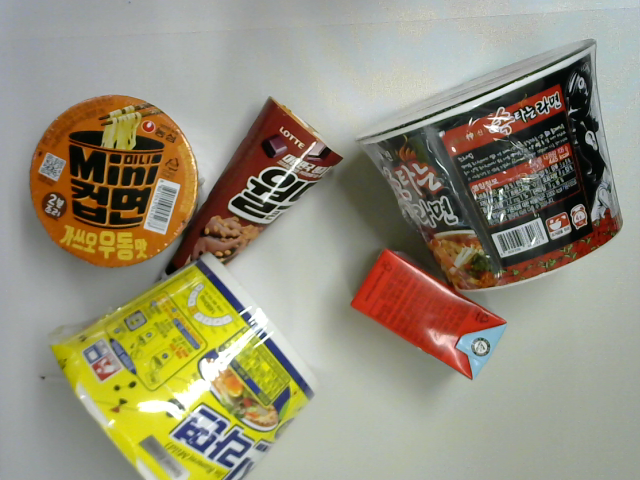HeJangsock: (356, 35, 632, 298)
Jinlamyeon_Mild_Taste_Large_Cup: (46, 254, 323, 480)
Picnic_Apple: (351, 244, 510, 383)
Udongmini: (28, 93, 208, 270)
World_Cone_Choco: (143, 89, 349, 327)
